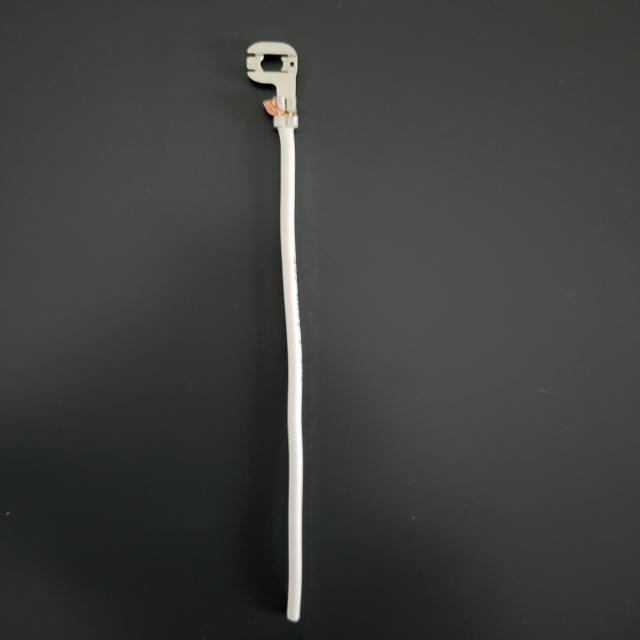defect: (249, 88, 352, 127)
